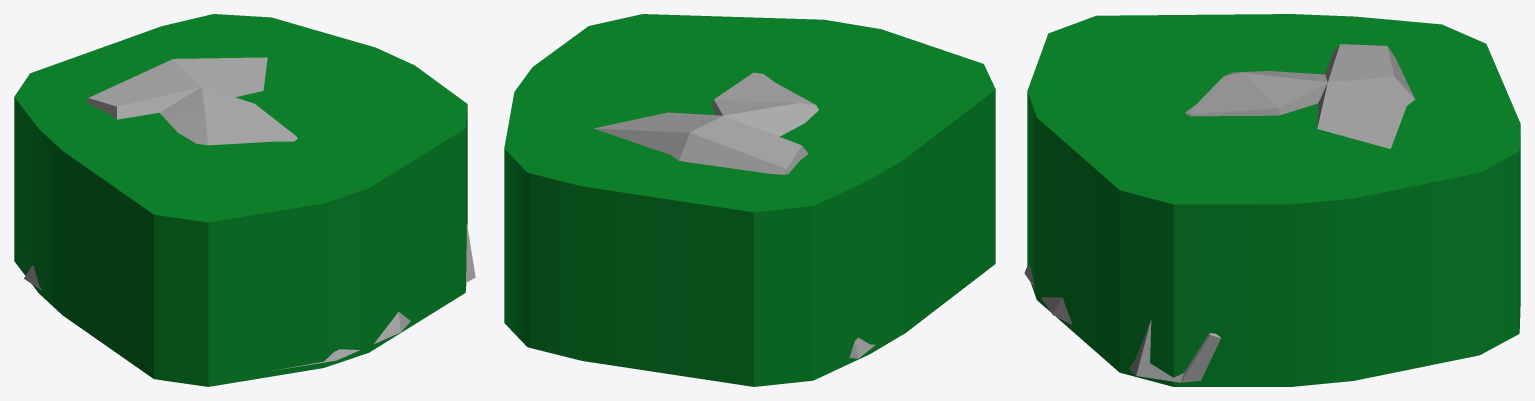
The model's file is Rock_01.fbx.
3 renders of one model, left to right at view 1: azimuth 30°, elevation 25°; view 2: azimuth 150°, elevation 25°; view 3: azimuth 270°, elevation 25°, orthographic. The views are drawn at different scales.
Parts seen in each view (by area): view 1: COL_Rock_01, Rock_01; view 2: COL_Rock_01, Rock_01; view 3: COL_Rock_01, Rock_01.
Boxes of the visible parts, bbox=[...] form: COL_Rock_01: bbox=[14, 14, 467, 386]; Rock_01: bbox=[24, 57, 475, 370]; COL_Rock_01: bbox=[504, 14, 995, 386]; Rock_01: bbox=[594, 72, 875, 358]; COL_Rock_01: bbox=[1027, 14, 1520, 386]; Rock_01: bbox=[1024, 44, 1415, 382].
Bounding box in the file's own units: 102 × 50.65 × 111.
